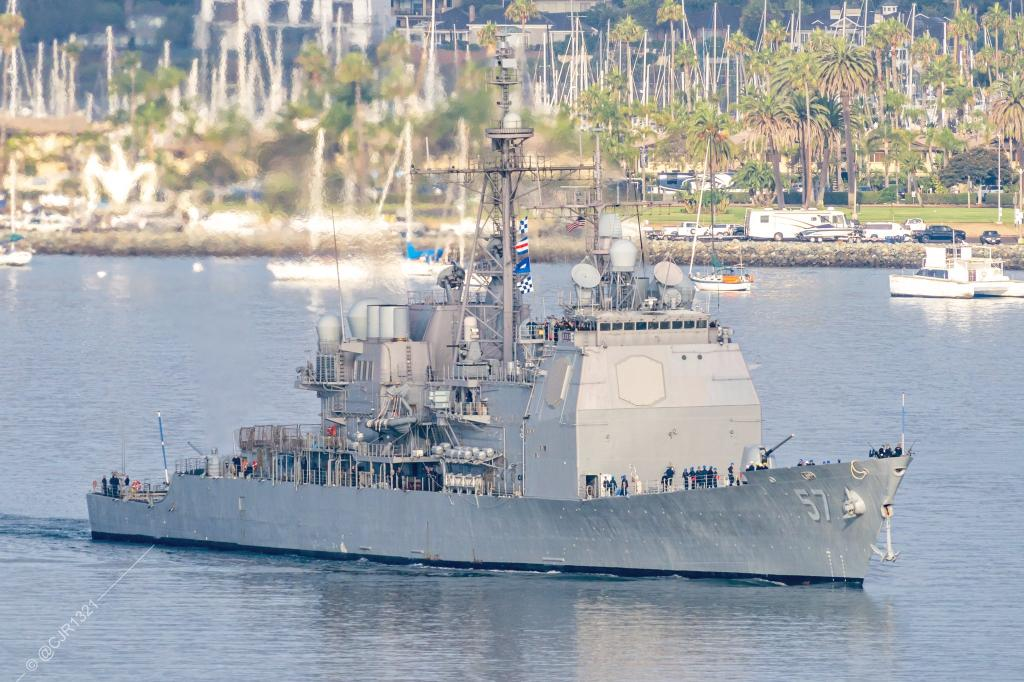Warship: (82, 168, 910, 600)
